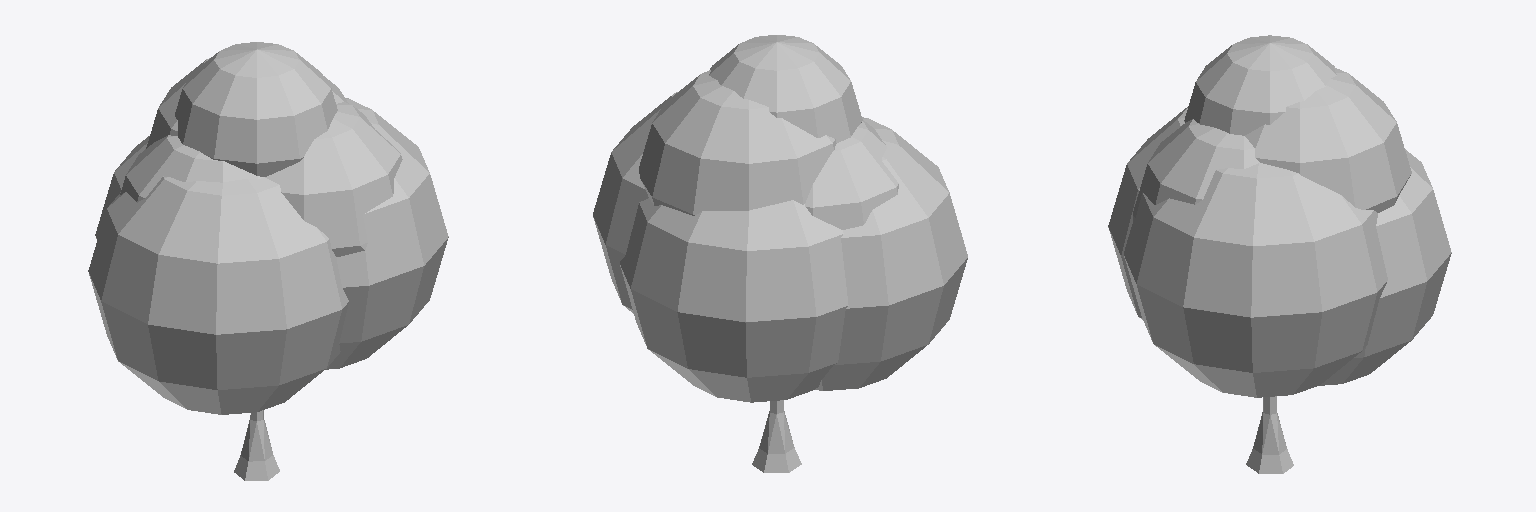
Rendered from tree1.2.obj.
3 renders of one model, left to right at view 1: azimuth 30°, elevation 25°; view 2: azimuth 150°, elevation 25°; view 3: azimuth 270°, elevation 25°, orthographic.
Parts seen in each view (by area): view 1: Bubble_Tree_1; view 2: Bubble_Tree_1; view 3: Bubble_Tree_1.
Part boxes in pixels (bbox=[...]): Bubble_Tree_1: bbox=[88, 42, 448, 480]; Bubble_Tree_1: bbox=[593, 35, 967, 472]; Bubble_Tree_1: bbox=[1108, 35, 1451, 473].
Size of the model in its own units: 13.81 by 16.84 by 12.42.